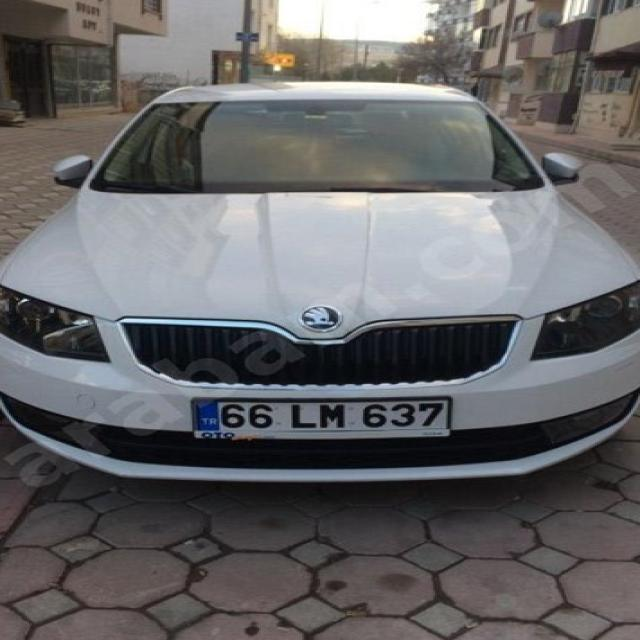license_plate: (195, 399, 450, 432)
